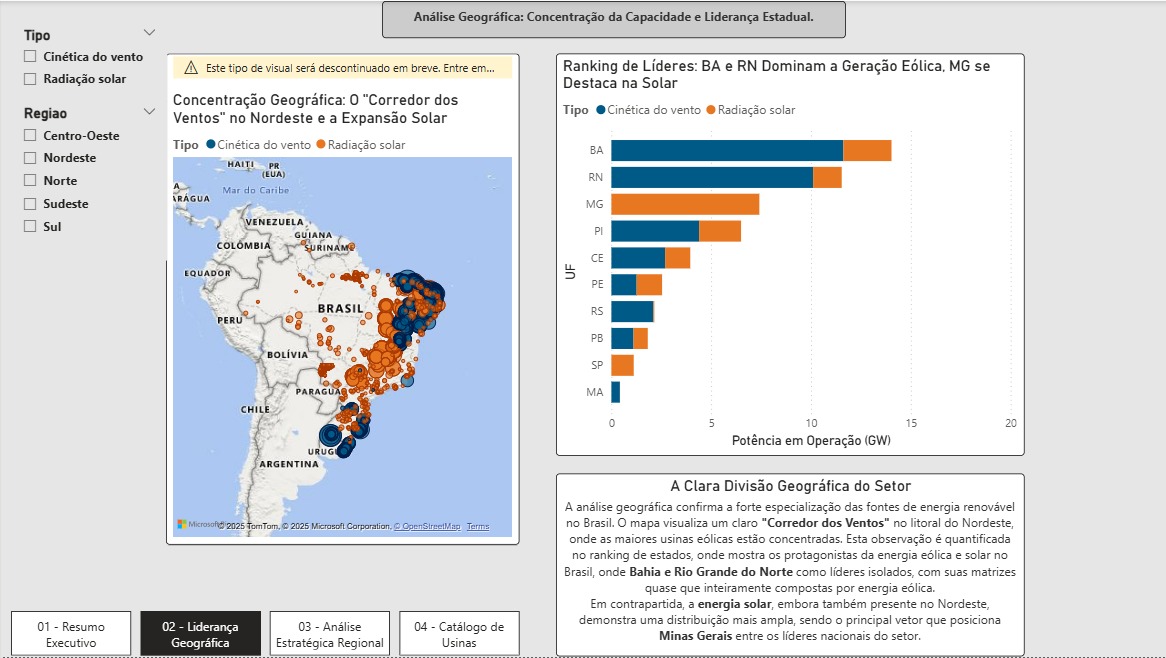

Layout of this report page (visuals, bound fields, positions):
{"tool":"powerbi","page":{"name":"02 - Liderança Geográfica","canvas":[1280,720],"ordinal":1},"visuals":[{"type":"textbox","box":[419.2,0,508.4,41.1],"z":0},{"type":"map","title":"Concentração Geográfica: O \"Corredor dos Ventos\" no Nordeste e a Expansão Solar","fields":{"Y":["fGeracao.Latitude Decimal"],"X":["fGeracao.Longitude Decimal"],"Size":["_Medidas.Potência em Operação (GW)"],"Series":["dFonte.Tipo"]},"box":[181.3,58.1,388.1,539.6],"z":1000},{"type":"barChart","title":"Ranking de Líderes: BA e RN Dominam a Geração Eólica, MG se Destaca na Solar","fields":{"Category":["dLocalizacao.UF"],"Y":["_Medidas.Potência em Operação (GW)"],"Series":["dFonte.Tipo"]},"box":[609,58.1,514.1,441.9],"z":2000},{"type":"slicer","fields":{"Values":["dLocalizacao.Regiao"]},"box":[11.9,110.4,170.1,175],"z":3000},{"type":"slicer","fields":{"Values":["dFonte.Tipo"]},"box":[11.9,22.9,170.1,87.5],"z":4000},{"type":"textbox","title":"A Clara Divisão Geográfica do Setor","box":[609,518.3,514.1,201.1],"z":5000},{"type":"pageNavigator","box":[11.3,669.9,558,49.6],"z":6000}]}

Visuals, with their boxes on the page's 1280x720 design canvas (x1, y1, x2, y2). These are canvas units, not pixel positions in the 1166x658 screenshot, which may show the page scaled, cropped or inside an application window:
textbox: x1=419, y1=0, x2=928, y2=41
"Concentração Geográfica: O "Corredor dos Ventos" no Nordeste e a Expansão Solar" map: x1=181, y1=58, x2=569, y2=598
"Ranking de Líderes: BA e RN Dominam a Geração Eólica, MG se Destaca na Solar" barChart: x1=609, y1=58, x2=1123, y2=500
slicer - dLocalizacao.Regiao: x1=12, y1=110, x2=182, y2=285
slicer - dFonte.Tipo: x1=12, y1=23, x2=182, y2=110
"A Clara Divisão Geográfica do Setor" textbox: x1=609, y1=518, x2=1123, y2=719
pageNavigator: x1=11, y1=670, x2=569, y2=720
